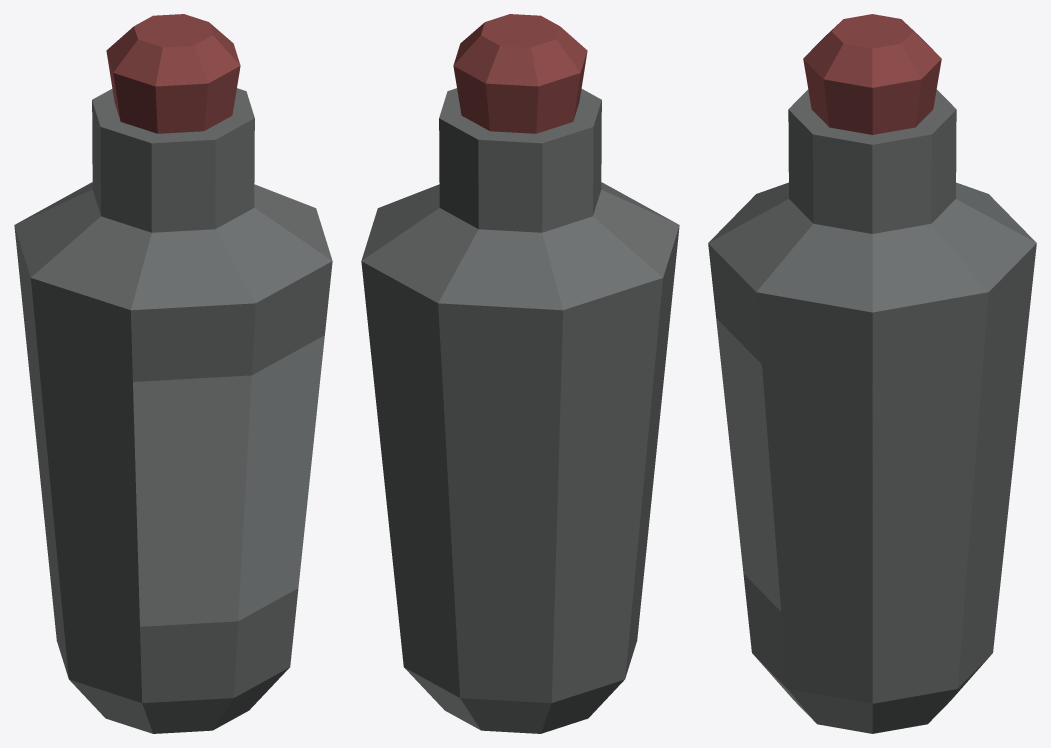
Rendered from Bottle_3_Gray.fbx.
3 renders of one model, left to right at view 1: azimuth 30°, elevation 25°; view 2: azimuth 150°, elevation 25°; view 3: azimuth 270°, elevation 25°, orthographic.
Visible parts, largest first — view 1: Bottle_3_Gray_Part_1, Bottle_3_Gray_Part_2, Bottle_3_Gray_Part_3; view 2: Bottle_3_Gray_Part_1, Bottle_3_Gray_Part_3; view 3: Bottle_3_Gray_Part_1, Bottle_3_Gray_Part_3, Bottle_3_Gray_Part_2.
Part boxes in pixels (x1,y1,x2,y2): Bottle_3_Gray_Part_1: [14, 88, 332, 733]; Bottle_3_Gray_Part_2: [133, 335, 324, 626]; Bottle_3_Gray_Part_3: [106, 14, 240, 133]; Bottle_3_Gray_Part_1: [361, 88, 679, 733]; Bottle_3_Gray_Part_3: [453, 14, 587, 133]; Bottle_3_Gray_Part_1: [708, 89, 1036, 733]; Bottle_3_Gray_Part_3: [803, 14, 941, 134]; Bottle_3_Gray_Part_2: [716, 318, 781, 611].
Bounding box in the file's own units: 13.35 × 30 × 13.35.
